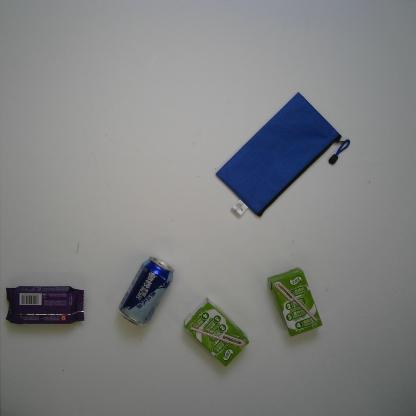Alcohol: (118, 256, 174, 327)
Dessert: (5, 286, 85, 324)
Milk: (183, 297, 250, 368), (267, 267, 323, 337)
Stationery: (215, 91, 351, 217)
